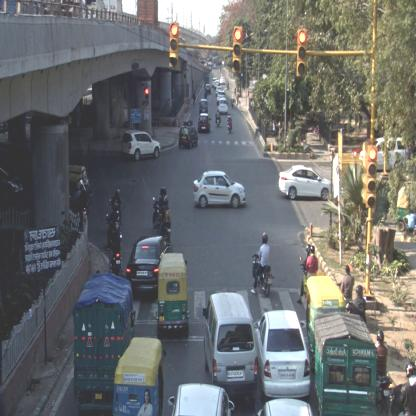car: (203, 292, 257, 390), (254, 311, 310, 399), (127, 235, 171, 300), (168, 382, 233, 416), (192, 170, 246, 208), (277, 166, 333, 201), (123, 130, 159, 162), (178, 124, 198, 152), (198, 113, 212, 133), (198, 99, 208, 117), (218, 97, 228, 115), (205, 83, 211, 93), (220, 76, 227, 84)
motorcycle: (250, 230, 272, 298), (376, 329, 393, 415), (296, 244, 316, 304), (157, 187, 173, 241), (107, 230, 122, 279), (226, 112, 232, 136), (214, 109, 220, 126)
truck: (74, 273, 134, 415), (314, 307, 378, 412)
